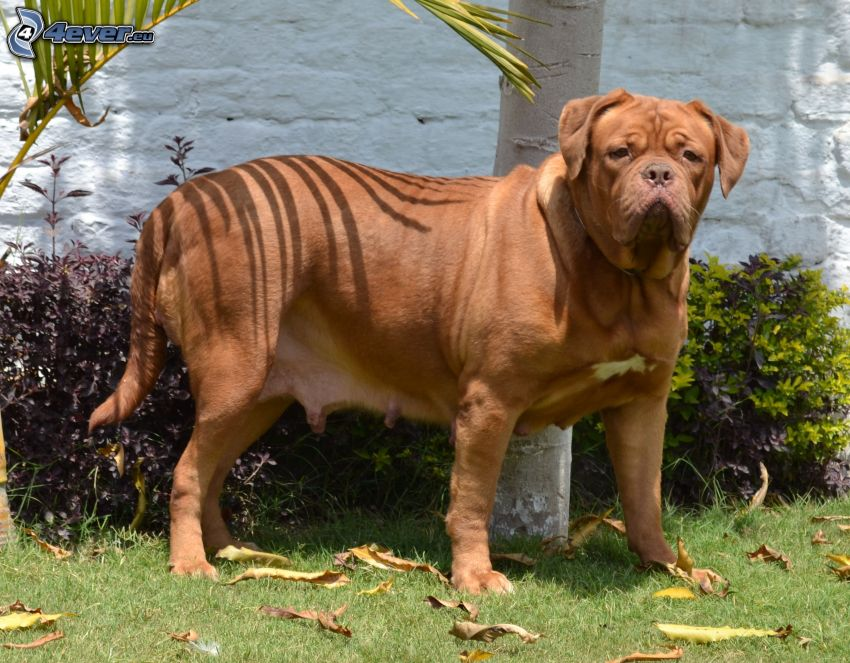dogue_de_bordeaux: (87, 88, 750, 598)
